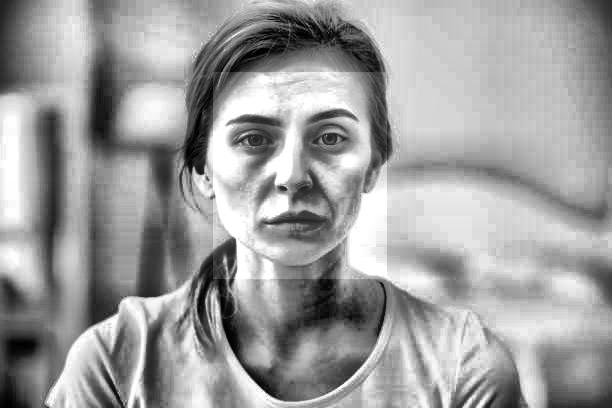sad: (213, 73, 387, 280)
